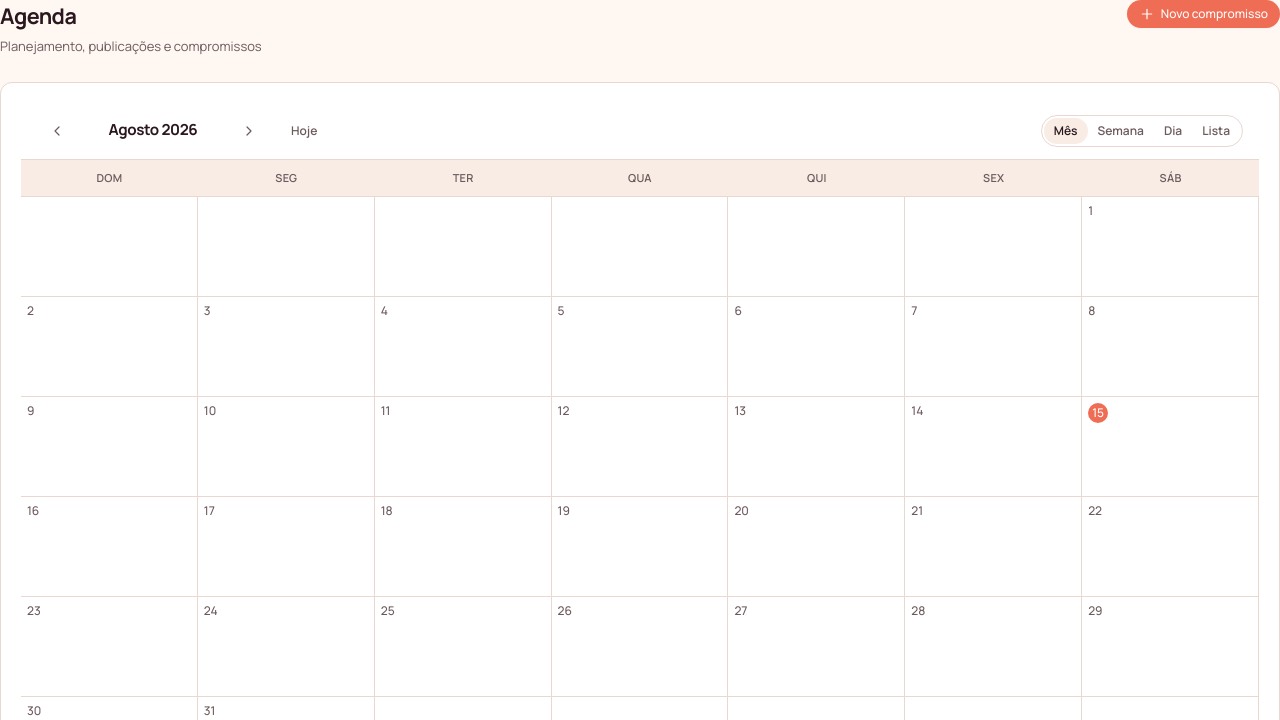
Scenario: Calendar & Appointments — B7 CRUD Wiring › blocks submission when end time is before start time
This screenshot has width=1280, height=720.
Click the button "Novo compromisso": (1203,14) [1127,0,1279,28]
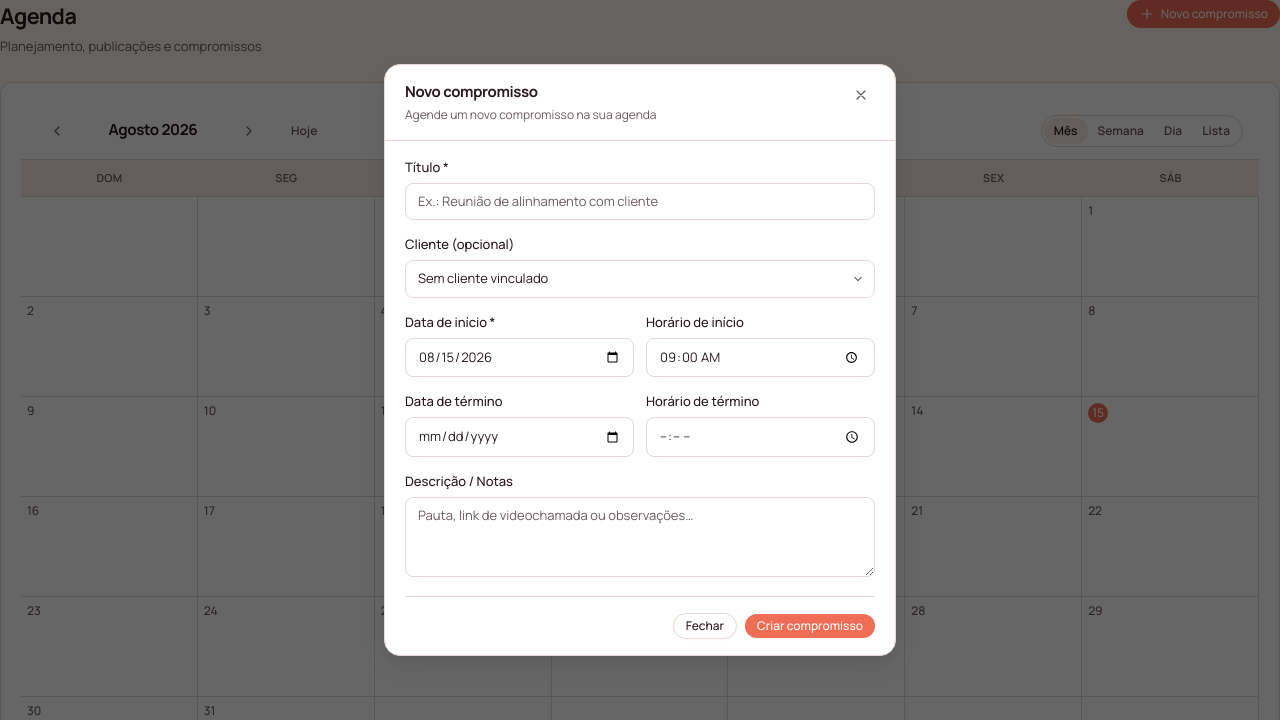
In the field with placeholder "Ex.: Reunião de alinhamento com cliente": (640,202) [405,183,875,220], type "Workshop"
In the date field below "Data de início *": (520,358) [405,338,634,377], type "2026-08-25"
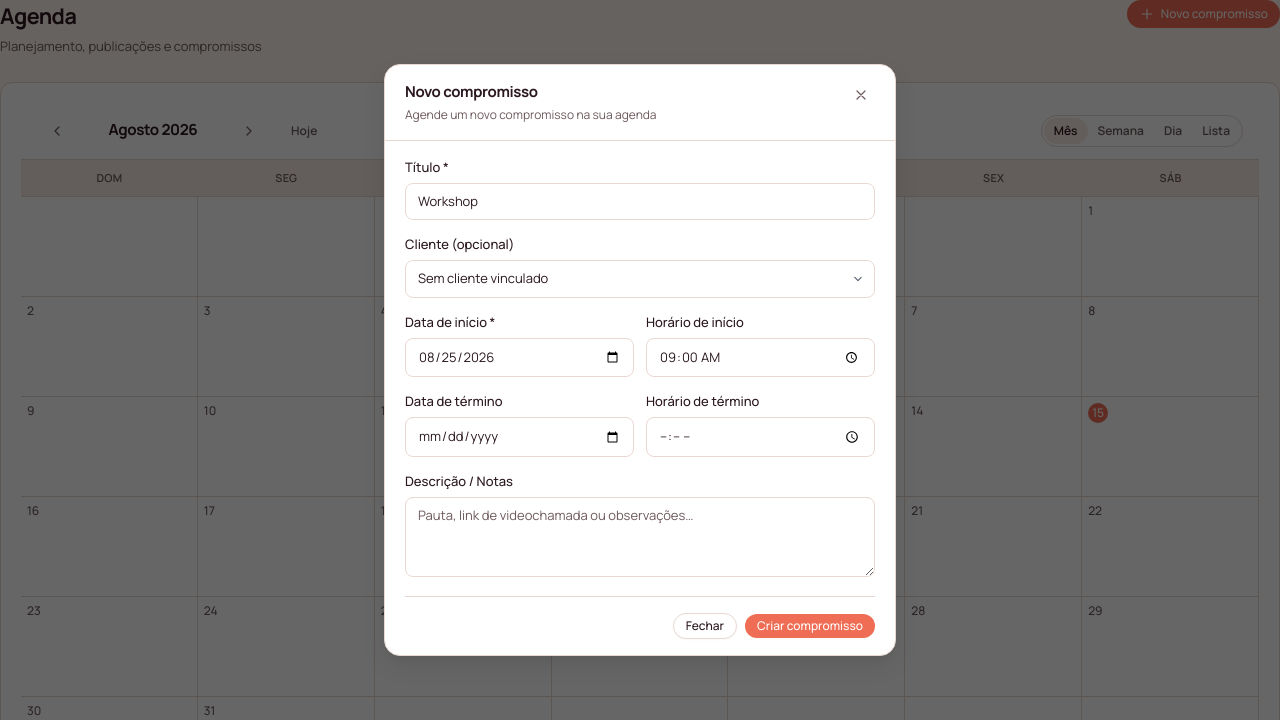
Replace the text in the time field below "Horário de início" with "14:00": (760,358) [646,338,875,377]
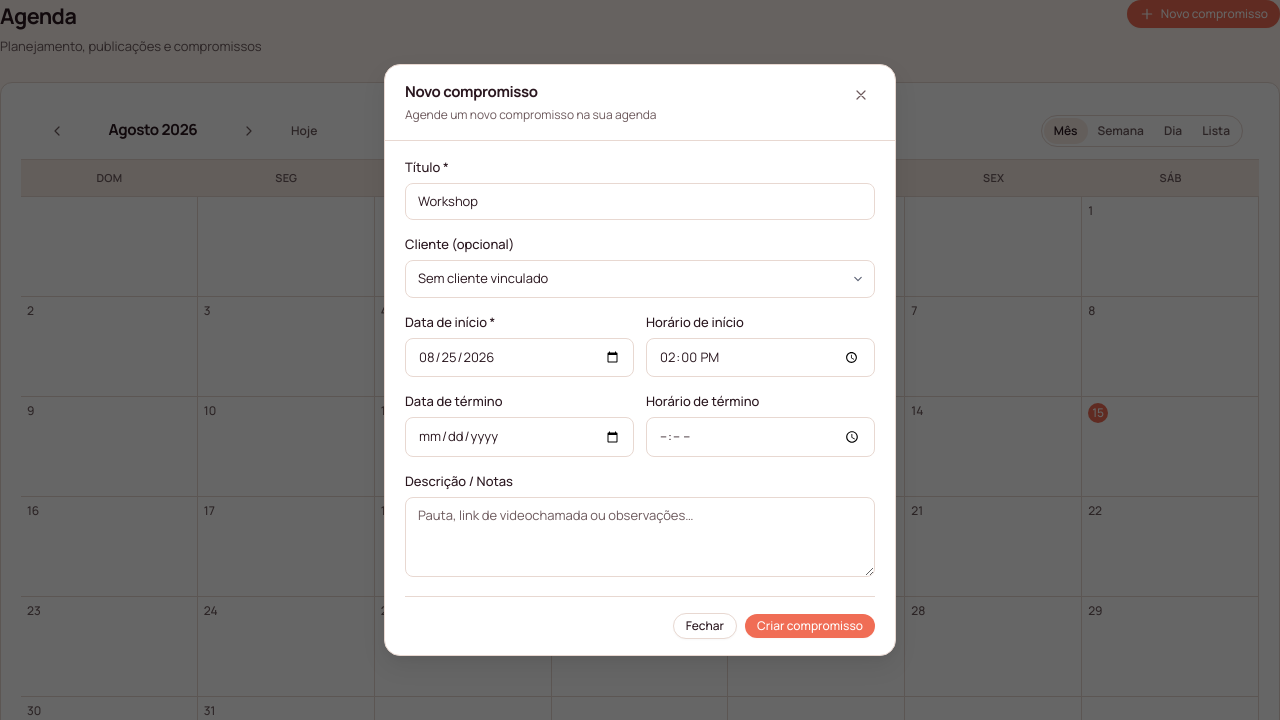
In the date field below "Data de término": (520,437) [405,417,634,457], type "2026-08-25"
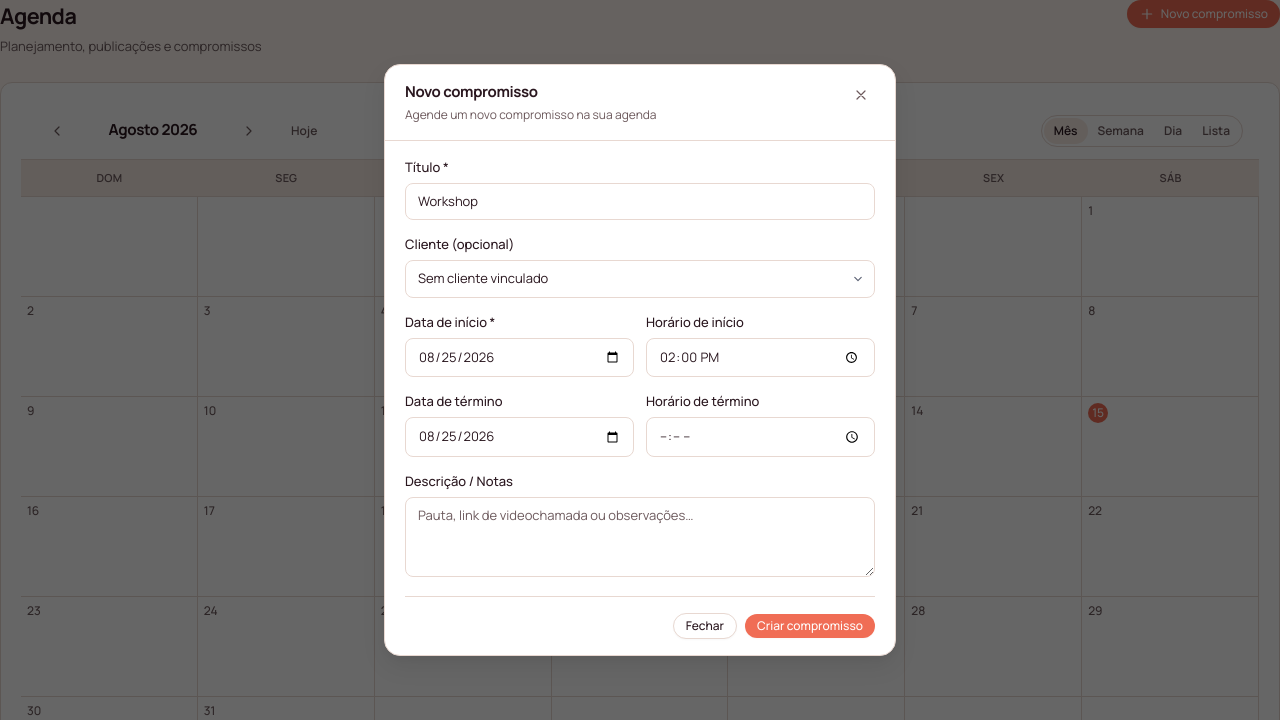
In the time field below "Horário de término": (760,437) [646,417,875,457], type "12:00"
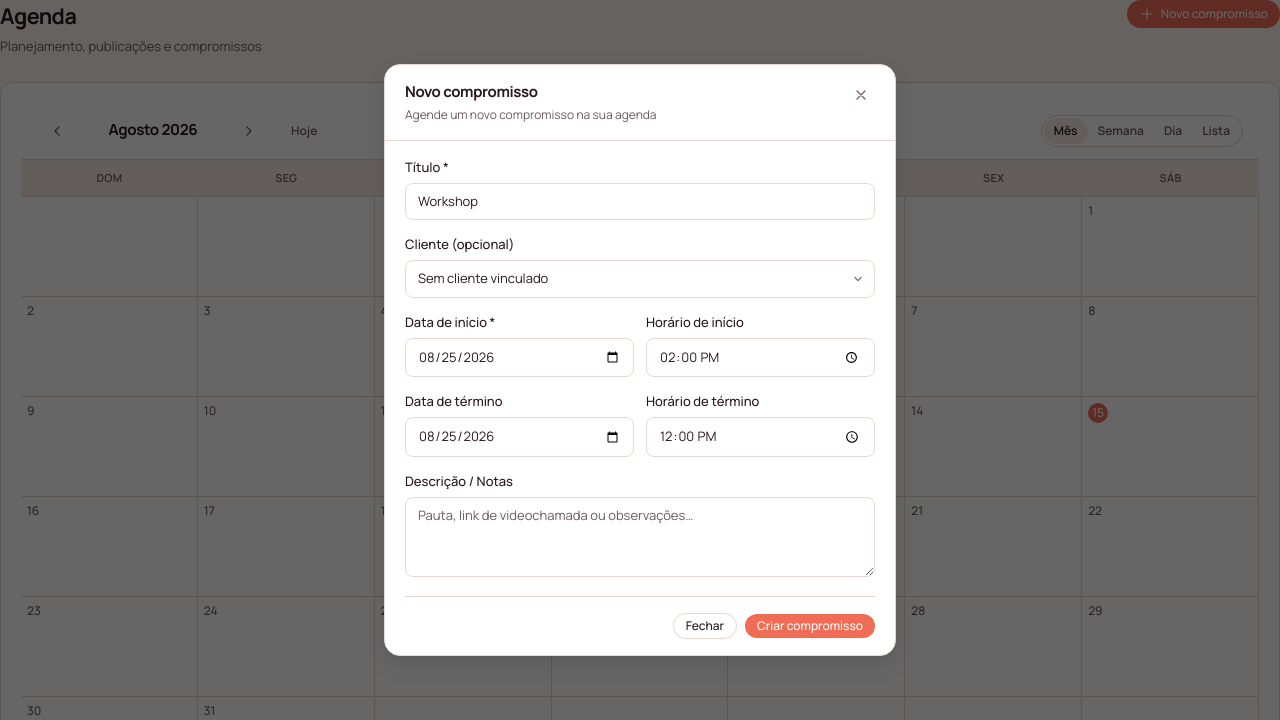
Click the button "Criar compromisso": (810,626) [745,614,875,638]
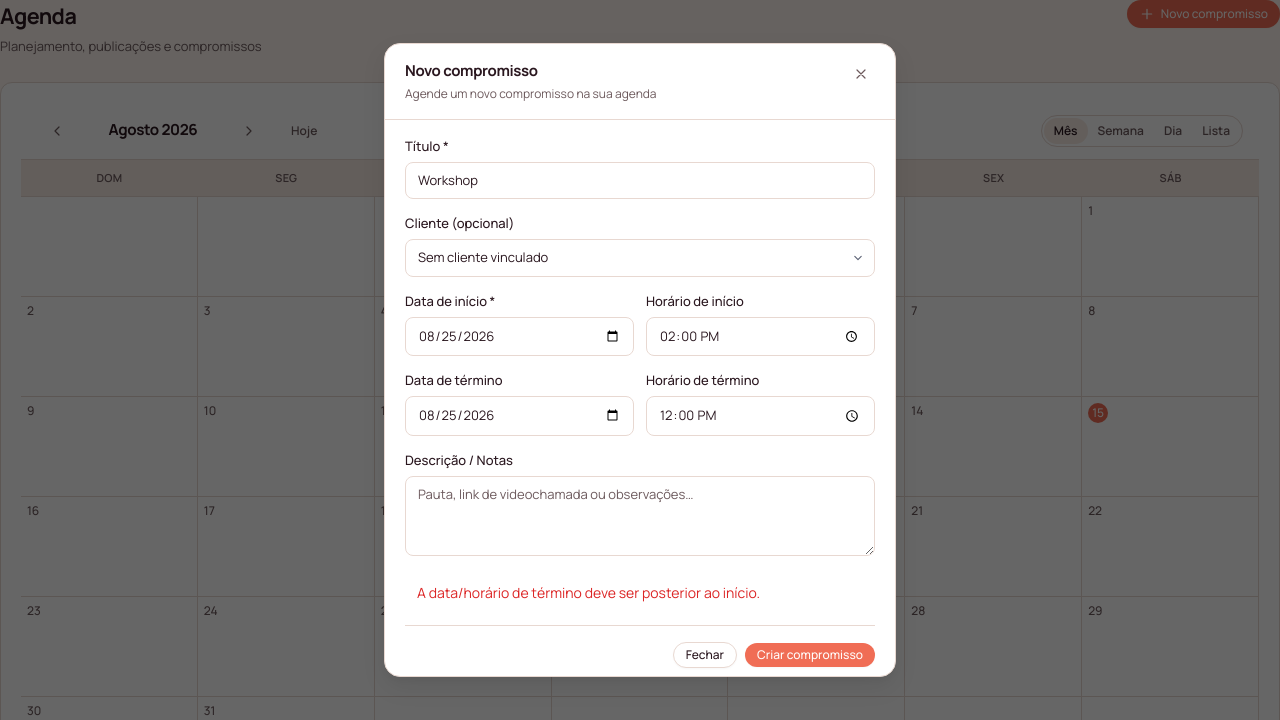
expect the text "A data/horário de término deve ser posterior ao início." is shown: met, box [417,583,760,602]
